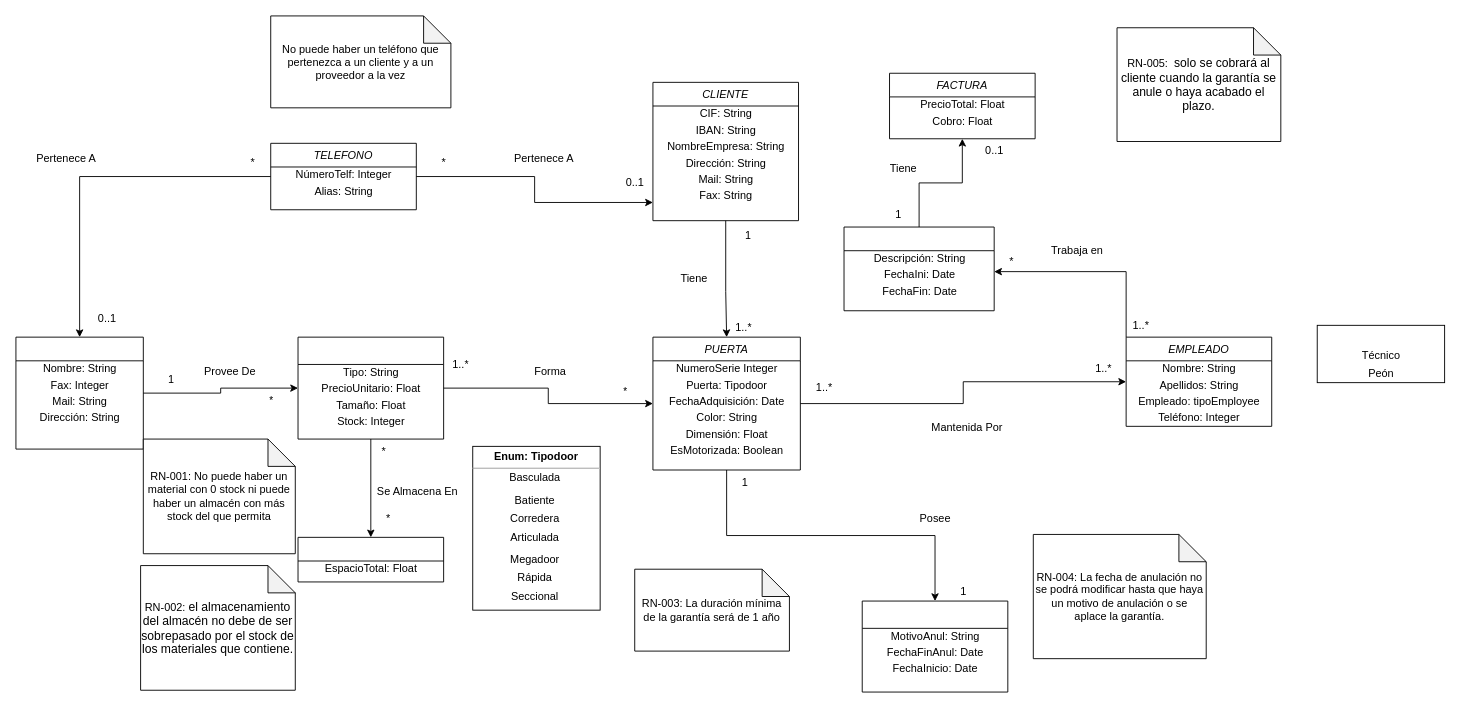
This 1461x708 diagram has some shape labels left out. The box of each missing label's shape, as (x1, y1, x2, y2) in pixels:
ALMACEN: (297, 536, 444, 582)
Enum: tipoEmployee: (1316, 324, 1445, 383)
GARANTIA: (861, 600, 1008, 692)
MANTENIMIENTO: (843, 226, 994, 311)
MATERIAL: (297, 336, 444, 439)
PROVEEDOR: (15, 336, 143, 449)
